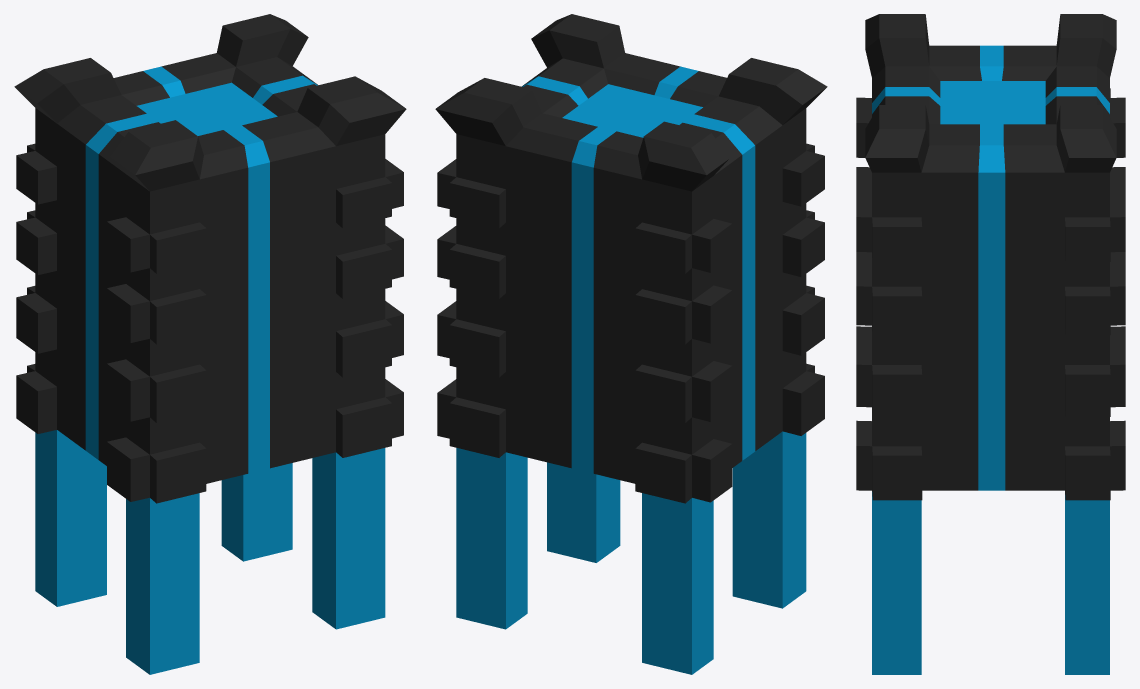
File: SmBuildNeon03.fbx
The picture shows the model from 3 angles, left to right: view 1: azimuth 30°, elevation 25°; view 2: azimuth 150°, elevation 25°; view 3: azimuth 270°, elevation 25°; orthographic projection. The views are drawn at different scales.
Visible parts, largest first — view 1: SmBuildNeon03; view 2: SmBuildNeon03; view 3: SmBuildNeon03.
Boxes of the visible parts, x1,y1,x2,y2 form: SmBuildNeon03: [14, 14, 406, 674]; SmBuildNeon03: [435, 14, 827, 674]; SmBuildNeon03: [856, 14, 1125, 674].
Size of the model in its own units: 1.04 by 1.89 by 0.8504.
